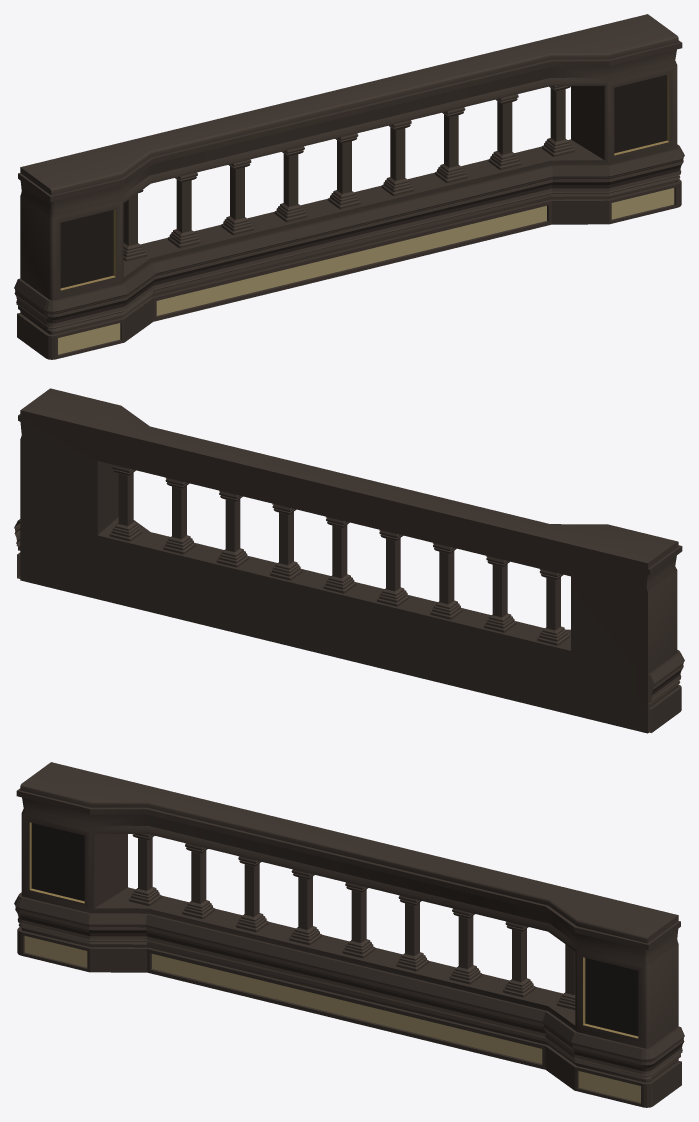
The model's file is ThickWoodenFence.fbx.
The picture shows the model from 3 angles, top to bottom: view 1: azimuth 30°, elevation 25°; view 2: azimuth 150°, elevation 25°; view 3: azimuth 330°, elevation 25°; orthographic projection.
Parts seen in each view (by area): view 1: Cube.031, Cube.022; view 2: Cube.031, Cube.022; view 3: Cube.031, Cube.022.
Part boxes in pixels (left/top/right/bottom): Cube.031: left=14, top=14, right=684, bottom=359; Cube.022: left=123, top=86, right=574, bottom=261; Cube.031: left=14, top=388, right=684, bottom=733; Cube.022: left=109, top=464, right=569, bottom=645; Cube.031: left=14, top=762, right=684, bottom=1107; Cube.022: left=129, top=834, right=575, bottom=1009.
Bounding box in the file's own units: 105 × 26.54 × 9.86.
